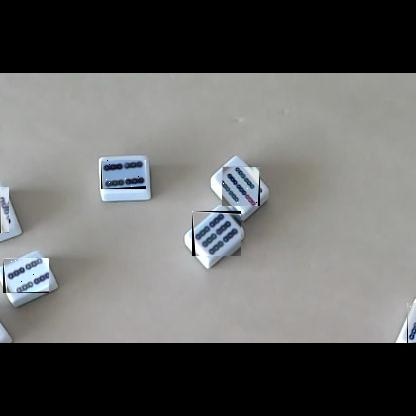4s: (3, 258, 49, 293), (101, 160, 146, 189)
5s: (407, 303, 416, 343)
6s: (192, 211, 241, 256)
7s: (222, 166, 260, 206)
8s: (0, 187, 9, 233)
